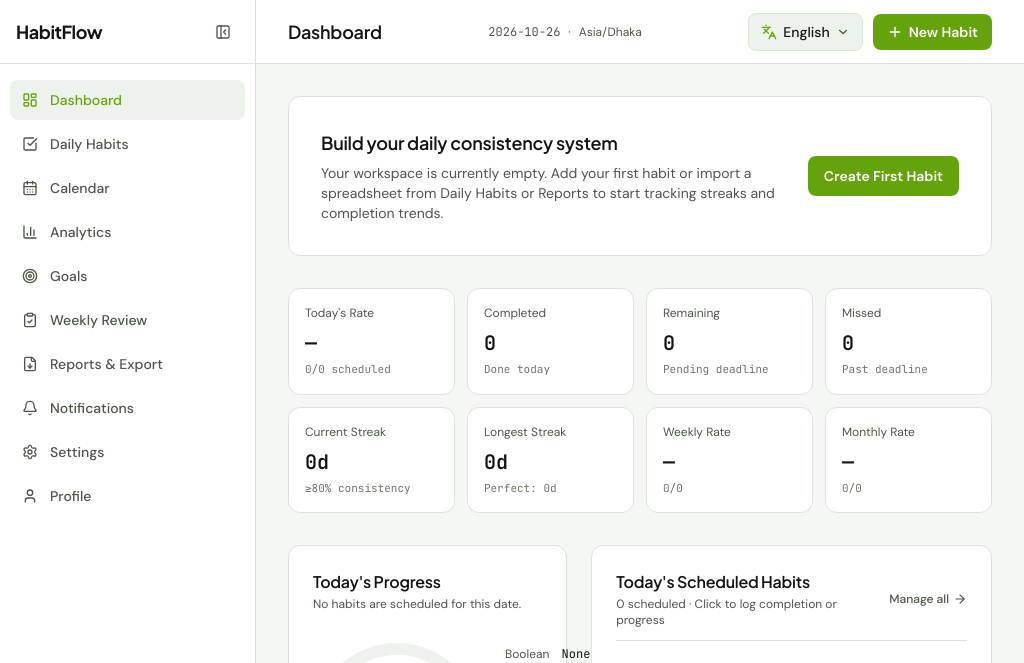
Frontend UI & Accessibility Verification › switches the workspace language between English and Bangla from the header button next to New Habit
Expected: the button "New Habit" is shown, [873,14,992,50]
// Open dropdown and select বাংলা
Click the button with aria-label "change language": [806, 32] box [748,12,863,50]
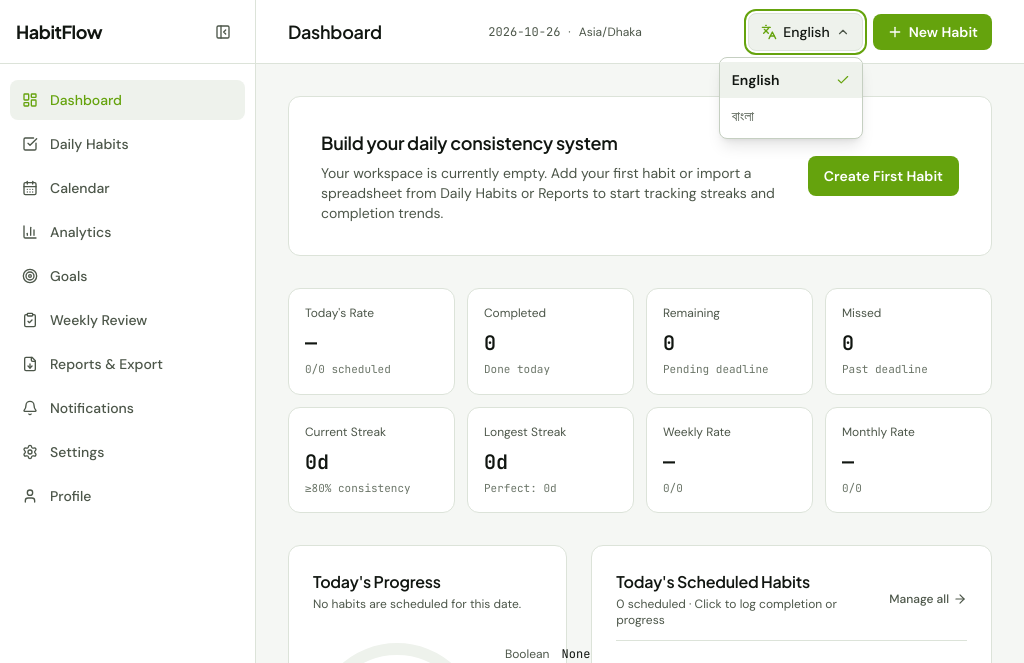
Click the option "বাংলা": [791, 116] box [720,98,862,134]
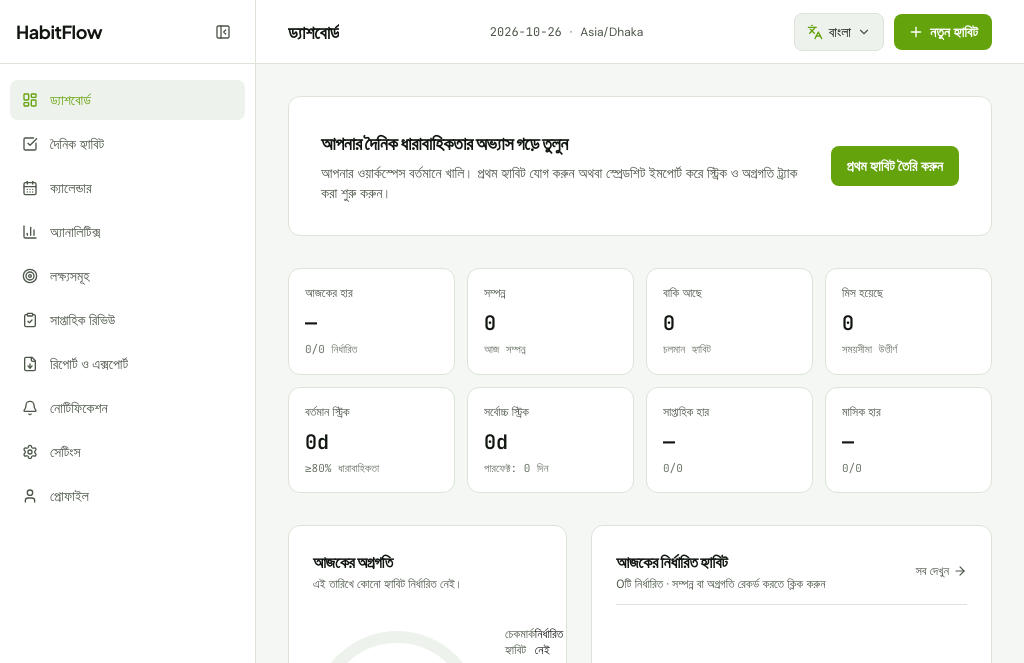
Expected: the button named "change language" reads "বাংলা"
Expected: the button "নতুন হ্যাবিট" is shown, [894,14,992,50]
Expected: the text "ড্যাশবোর্ড" is shown, [50,90,91,110]
// Switch back to English
Click the button named "change language": [839, 32] box [794,12,884,50]
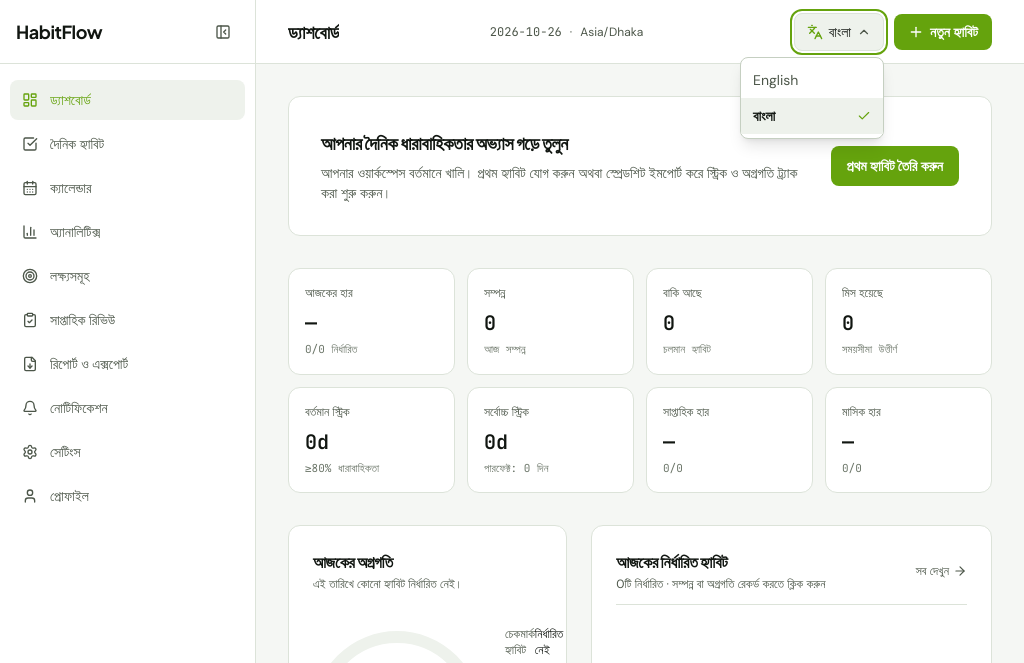
Click the option "English": [812, 80] box [741,62,883,98]
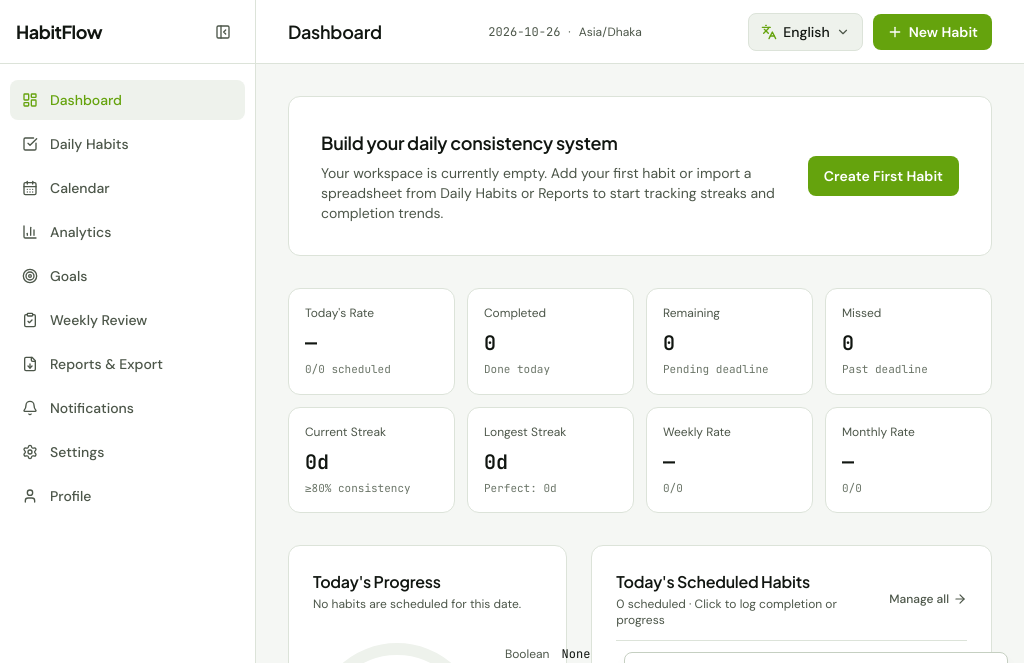
Expected: the button with aria-label "change language" reads "English", [748,12,863,50]
Expected: the button "New Habit" is shown, [873,14,992,50]
